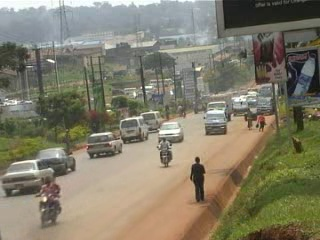Car: (3, 157, 56, 198), (34, 145, 77, 175), (83, 129, 126, 158), (155, 118, 186, 144)
Motorcycle: (32, 177, 63, 226), (156, 136, 175, 167), (179, 104, 189, 119)
